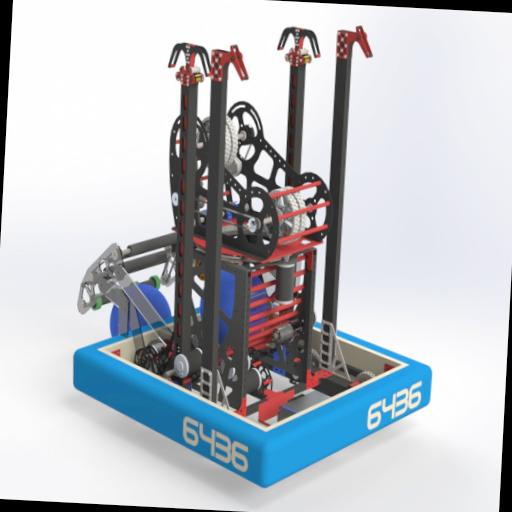robot: (62, 8, 452, 494)
